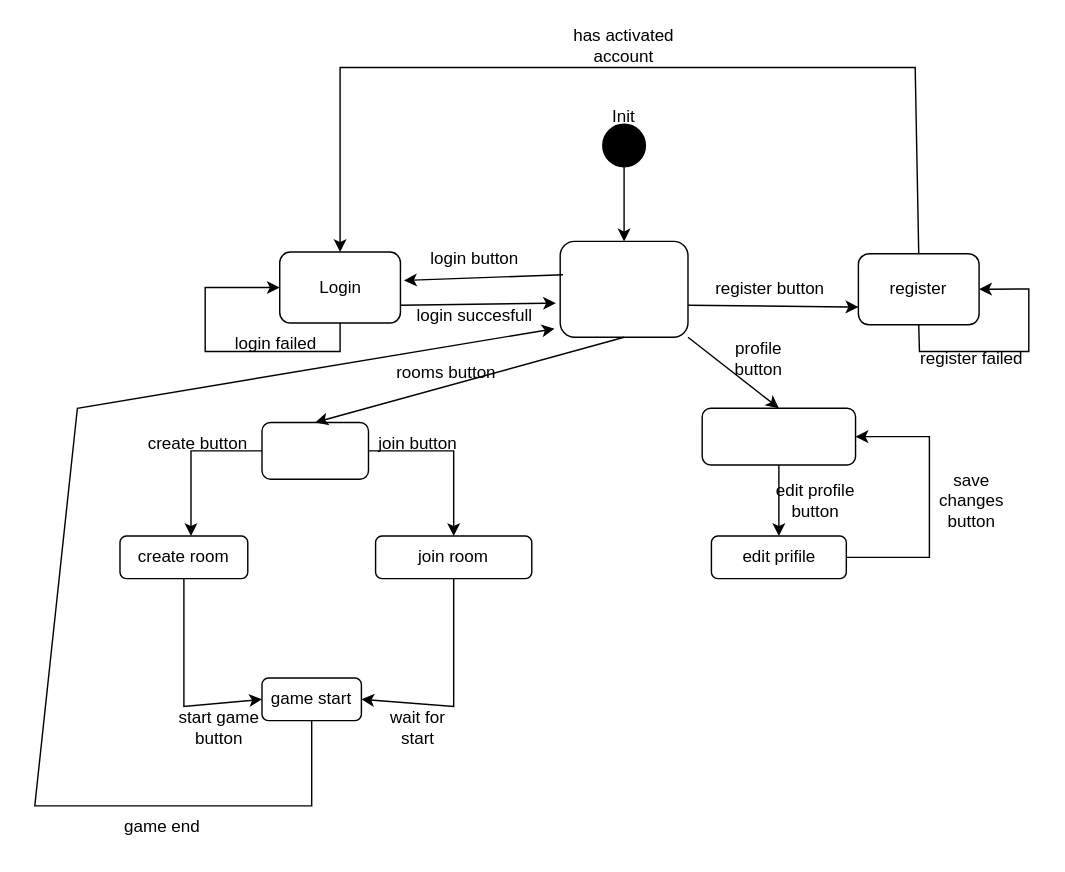
Some shapes in this 1065 by 872 pixel diagram are drawn without their labels. Each missing label, with the centre of its shape:
"Home Page" belongs at [623,288].
"profile" belongs at [778,436].
"rooms" belongs at [314,450].
